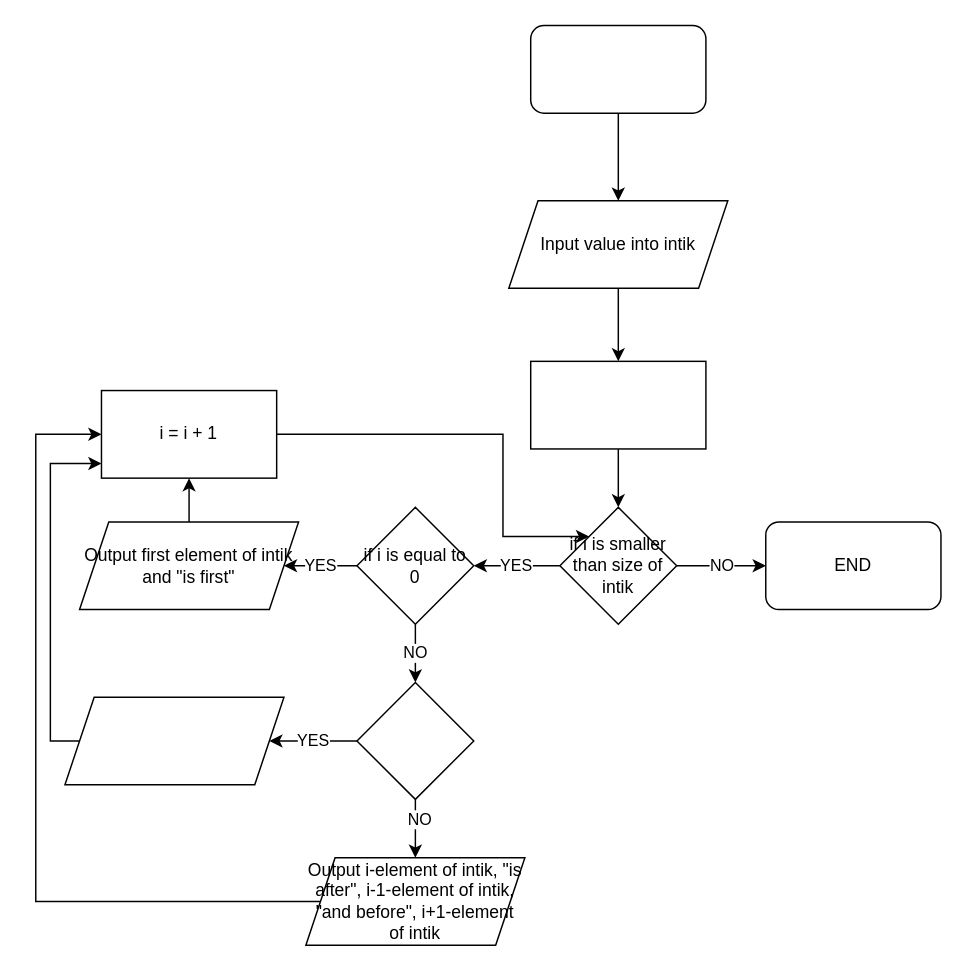
Some shapes in this 967 by 971 pixel diagram are drawn without their labels. The centre of each missing label's shape, as x and y in pixels:
i = 0: point (617, 404)
if i is equal to intik lenght-1: point (415, 740)
Output i-element of intik and "is last": point (174, 740)
START: point (617, 68)
